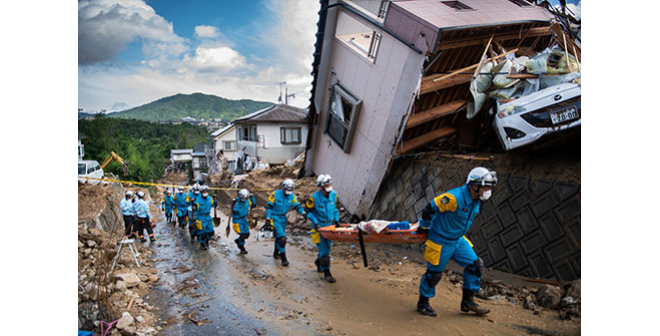Humano: (416, 161, 501, 320), (302, 171, 351, 285), (261, 175, 303, 269), (227, 182, 260, 257), (194, 183, 220, 250), (134, 186, 155, 243), (117, 189, 139, 240), (174, 183, 189, 228), (161, 190, 175, 223)
